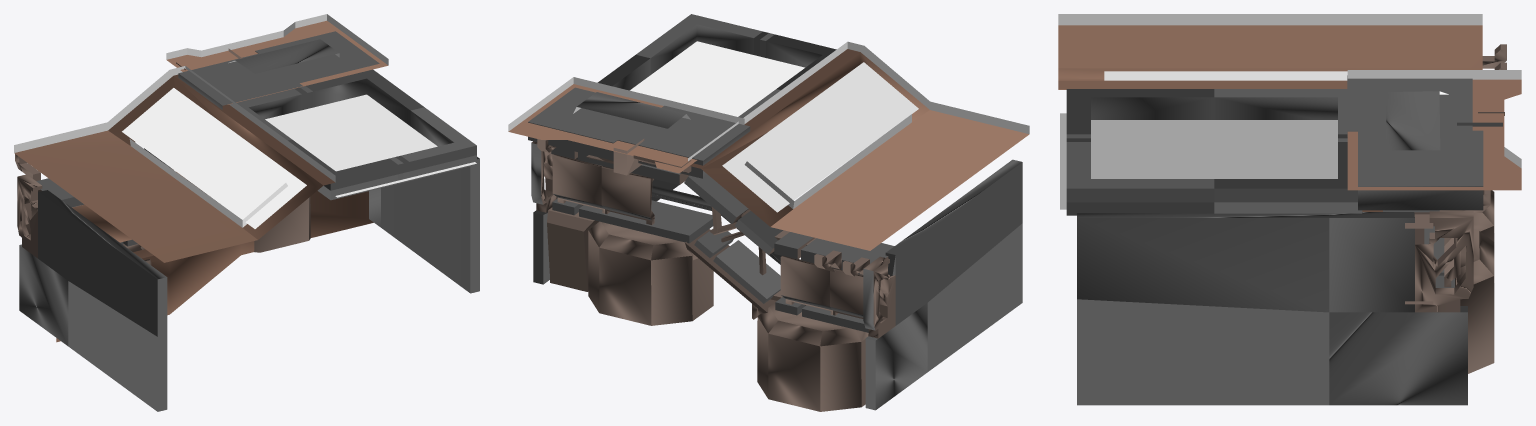
Rendered from lorville_city_plating_wall_slope_a.glb.
3 renders of one model, left to right at view 1: azimuth 30°, elevation 25°; view 2: azimuth 150°, elevation 25°; view 3: azimuth 270°, elevation 25°, orthographic. The views are drawn at different scales.
Size of the model in its own units: 263 by 161 by 226.
